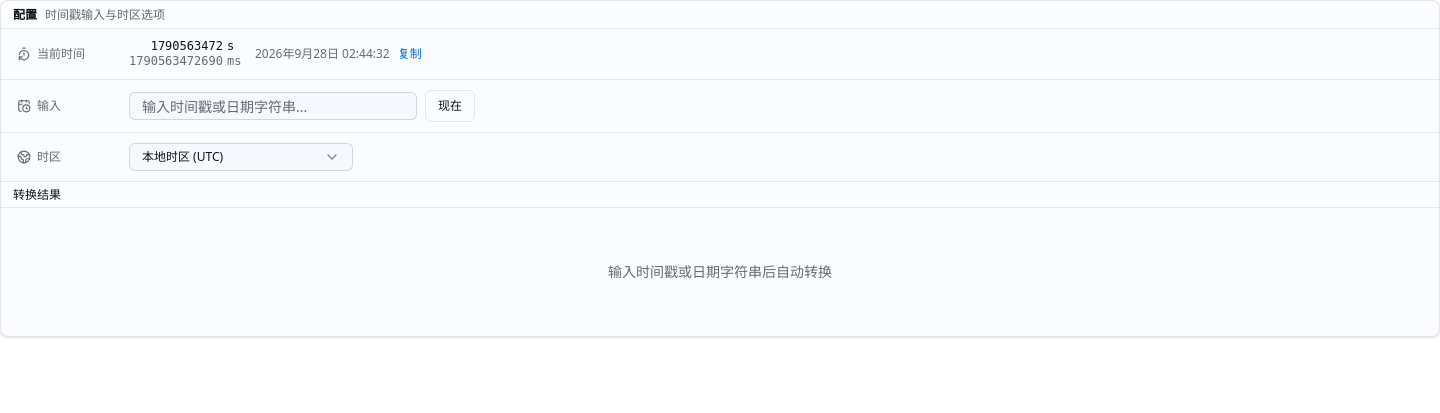
TimestampConverter › 解析失败时显示错误 alert
The image size is (1440, 413).
In the field with test id "input": [273, 106] box x1=129 y1=92 x2=417 y2=120, type "hello"
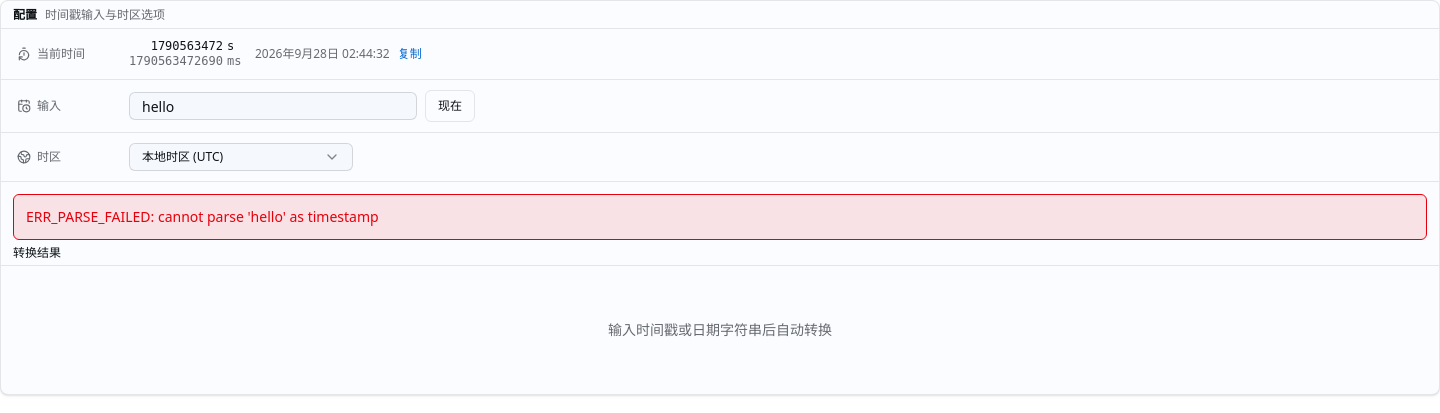
expect the text "ERR_PARSE_FAILED: cannot parse 'hello' as timestamp" is shown: met, box x1=13 y1=194 x2=1427 y2=240
